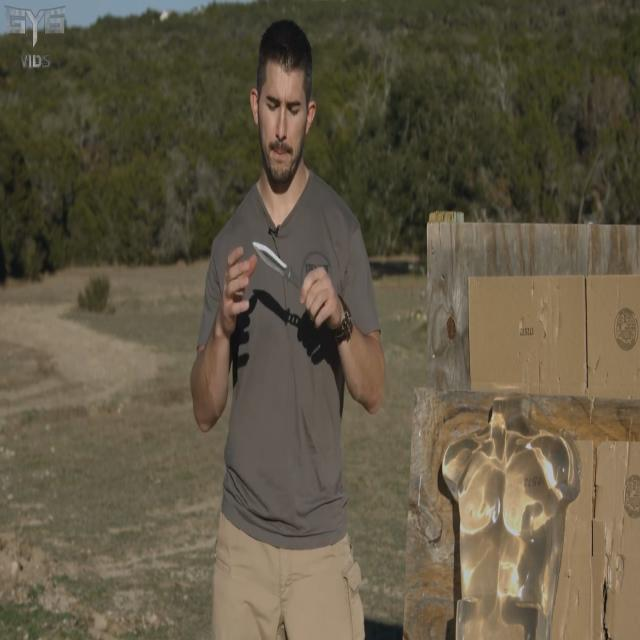knife: (250, 240, 305, 286)
